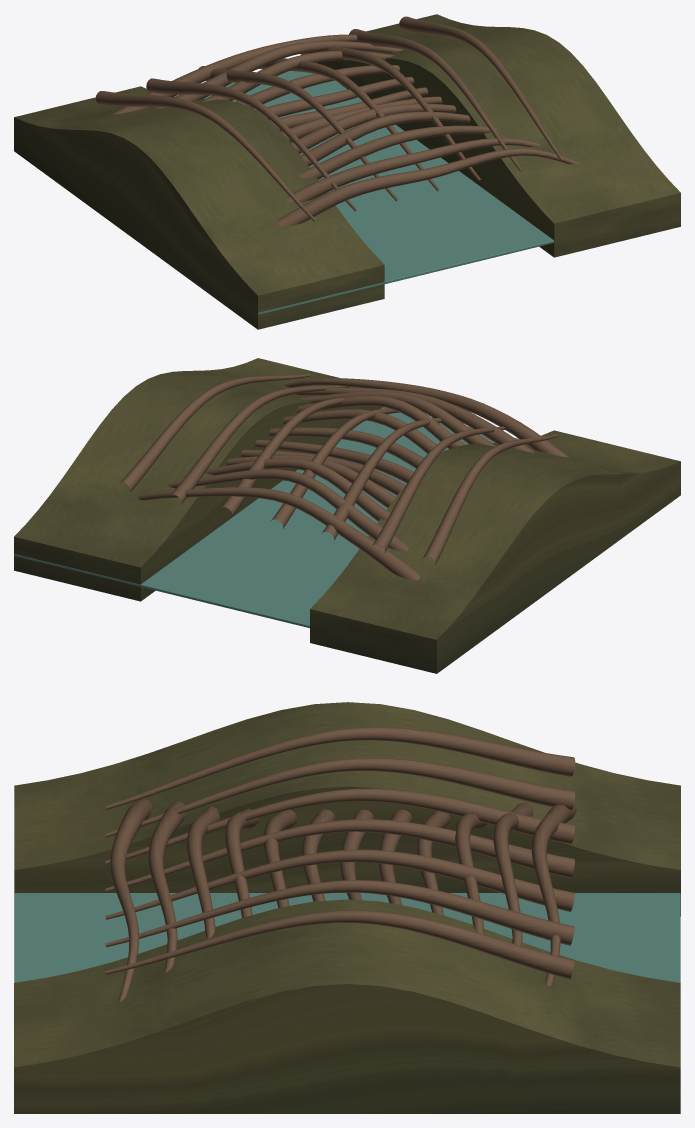
The model's file is bellroot-fen-floodward-marches-abandoned-weir-mound-a3e60916__32921.glb.
The picture shows the model from 3 angles, top to bottom: view 1: azimuth 30°, elevation 25°; view 2: azimuth 150°, elevation 25°; view 3: azimuth 270°, elevation 25°; orthographic projection. The views are drawn at different scales.
Visible parts, largest first — view 1: abandoned-weir-mound; view 2: abandoned-weir-mound; view 3: abandoned-weir-mound.
Boxes of the visible parts, x1,y1,x2,y2 form: abandoned-weir-mound: [14, 14, 680, 329]; abandoned-weir-mound: [14, 358, 680, 673]; abandoned-weir-mound: [14, 702, 680, 1113].
Size of the model in its own units: 4 by 1.01 by 4.
3 materials, 2 textured.
